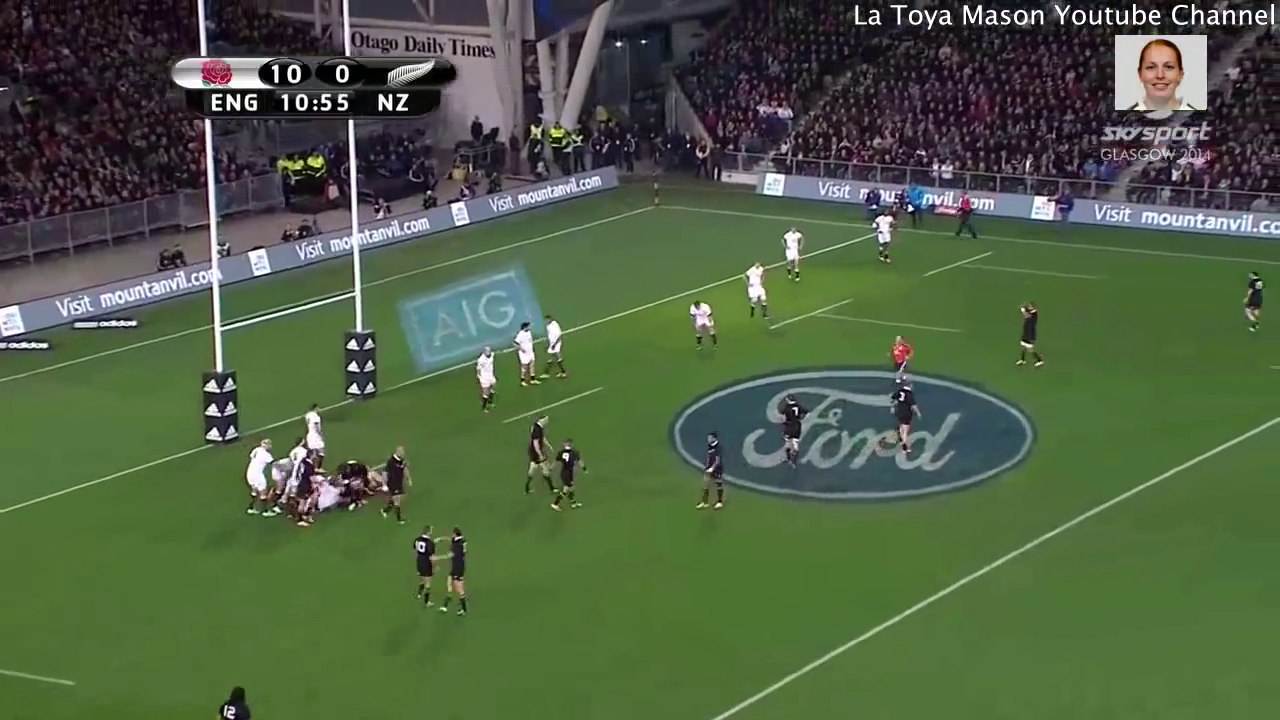player: (509, 397, 564, 501), (427, 519, 476, 619), (545, 435, 594, 524), (690, 425, 731, 524), (377, 439, 418, 532), (885, 374, 925, 466), (1007, 296, 1050, 380), (465, 338, 509, 419), (242, 426, 279, 521), (404, 520, 439, 616), (737, 251, 777, 329), (537, 307, 579, 381), (681, 295, 729, 359), (877, 331, 922, 399), (773, 388, 808, 475), (508, 316, 545, 396), (297, 396, 332, 480), (1234, 264, 1271, 339), (863, 202, 900, 270), (771, 224, 810, 286), (293, 444, 320, 533), (283, 433, 308, 508), (336, 458, 373, 487)
post: (183, 1, 387, 460)
ruck: (255, 443, 389, 519)
